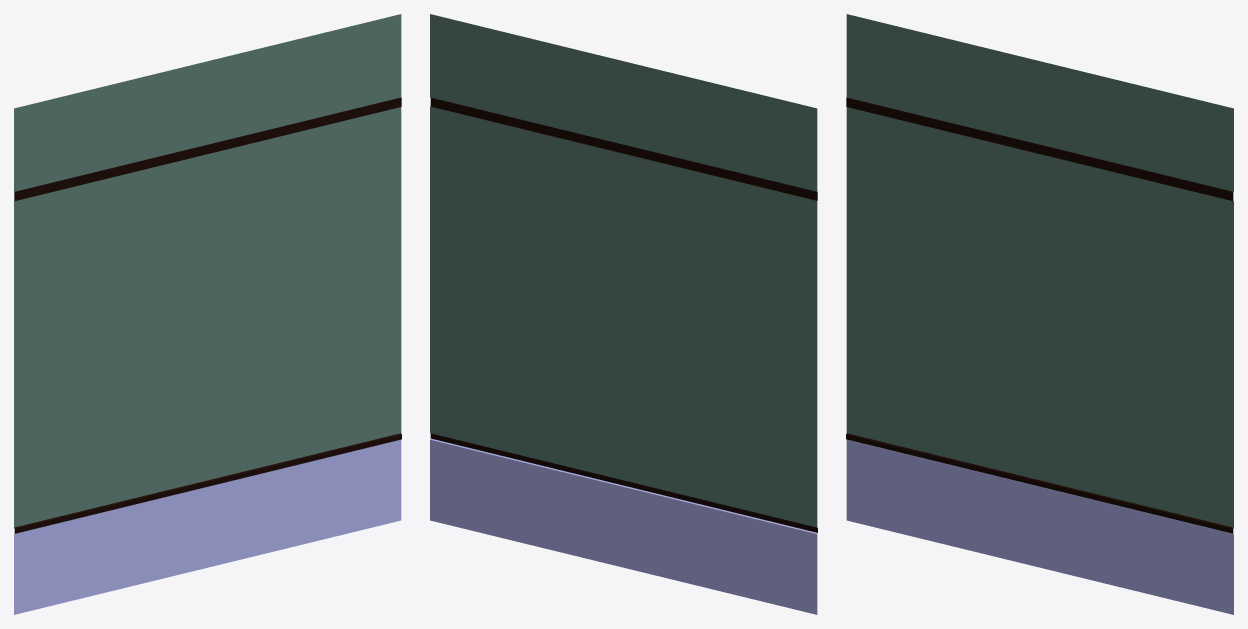
The model's file is Walls_v2.fbx.
3 renders of one model, left to right at view 1: azimuth 30°, elevation 25°; view 2: azimuth 150°, elevation 25°; view 3: azimuth 330°, elevation 25°, orthographic.
Parts seen in each view (by area): view 1: WallWC01, WallWC_window, WallWC, WallWC002, WallWCDoor; view 2: WallWC, WallWC_window, WallWC002, WallWCDoor; view 3: WallWC01, WallWC_window, WallWC, WallWC002, WallWCDoor.
Part boxes in pixels (x1,y1,x2,y2): WallWC01: [112, 37, 306, 590]; WallWC_window: [18, 14, 401, 564]; WallWC: [14, 84, 401, 614]; WallWC002: [14, 86, 322, 614]; WallWCDoor: [14, 86, 188, 613]; WallWC: [430, 14, 816, 580]; WallWC_window: [430, 53, 817, 614]; WallWC002: [430, 14, 789, 571]; WallWCDoor: [430, 16, 789, 565]; WallWC01: [944, 38, 1138, 591]; WallWC_window: [847, 68, 1233, 614]; WallWC: [846, 14, 1232, 555]; WallWC002: [846, 14, 1223, 544]; WallWCDoor: [846, 14, 1052, 543].
Size of the model in its own units: 400 by 500 by 1.03.
